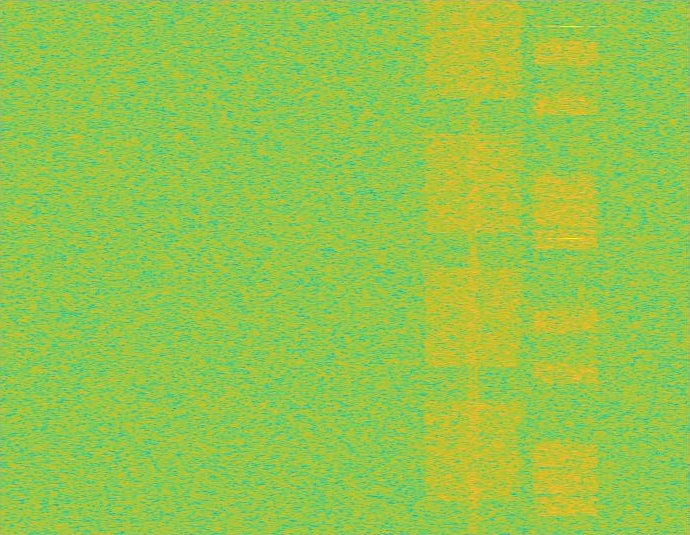5G: (422, 0, 525, 534)
DSSS: (466, 0, 480, 534)
LTE: (531, 0, 600, 534)
Radar: (565, 0, 579, 534)
